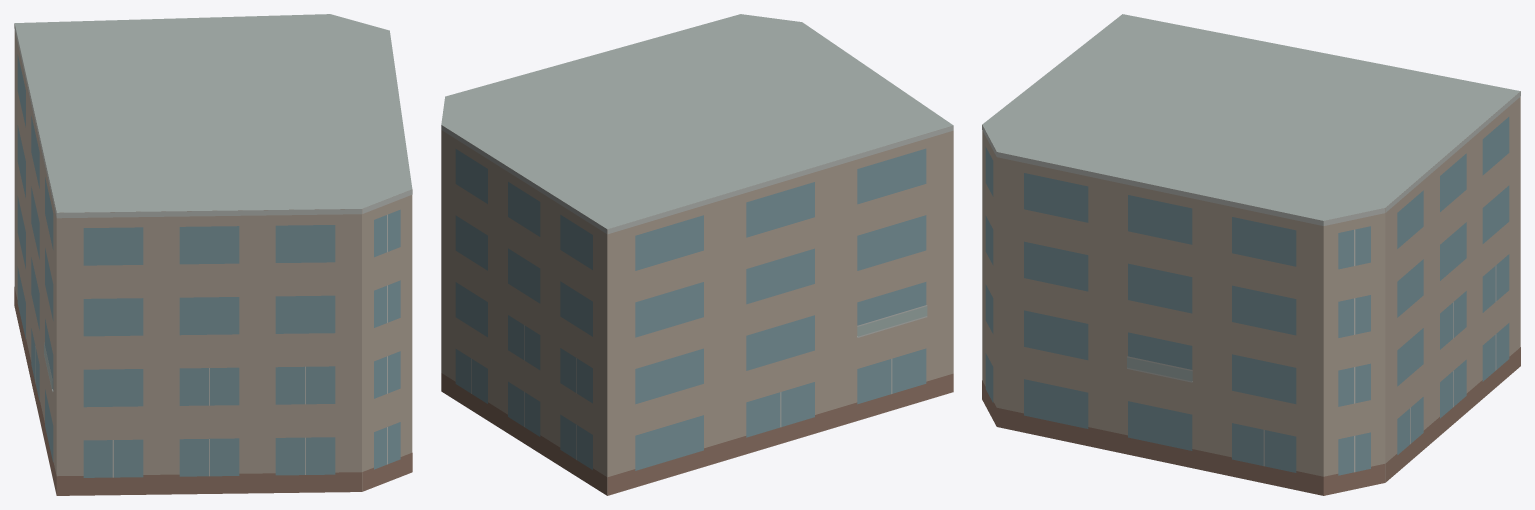
Rendered from survey-upis-32892307.glb.
3 renders of one model, left to right at view 1: azimuth 30°, elevation 25°; view 2: azimuth 150°, elevation 25°; view 3: azimuth 270°, elevation 25°, orthographic. The views are drawn at different scales.
Parts seen in each view (by area): view 1: survey-upis-32892307.tmp; view 2: survey-upis-32892307.tmp; view 3: survey-upis-32892307.tmp.
Part boxes in pixels (x1,y1,x2,y2): survey-upis-32892307.tmp: (14, 14, 412, 495); survey-upis-32892307.tmp: (441, 14, 953, 495); survey-upis-32892307.tmp: (982, 14, 1520, 495).
Size of the model in its own units: 20.67 by 12.8 by 22.73.
